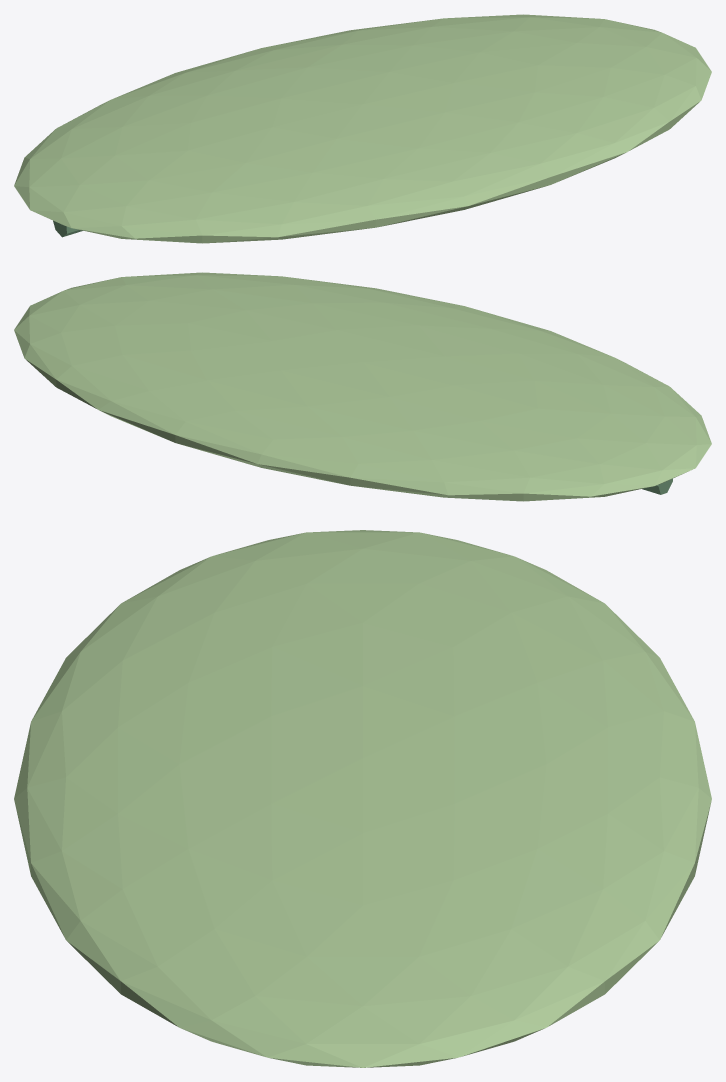
The model's file is leaf_platform.glb.
The picture shows the model from 3 angles, top to bottom: view 1: azimuth 30°, elevation 25°; view 2: azimuth 150°, elevation 25°; view 3: azimuth 270°, elevation 25°; orthographic projection. The views are drawn at different scales.
Visible parts, largest first — view 1: Blade; view 2: Blade; view 3: Blade.
Boxes of the visible parts, x1,y1,x2,y2 form: Blade: [14, 14, 711, 243]; Blade: [14, 272, 711, 501]; Blade: [14, 530, 711, 1067].
Bounding box in the file's own units: 2.48 × 0.2066 × 1.36.
